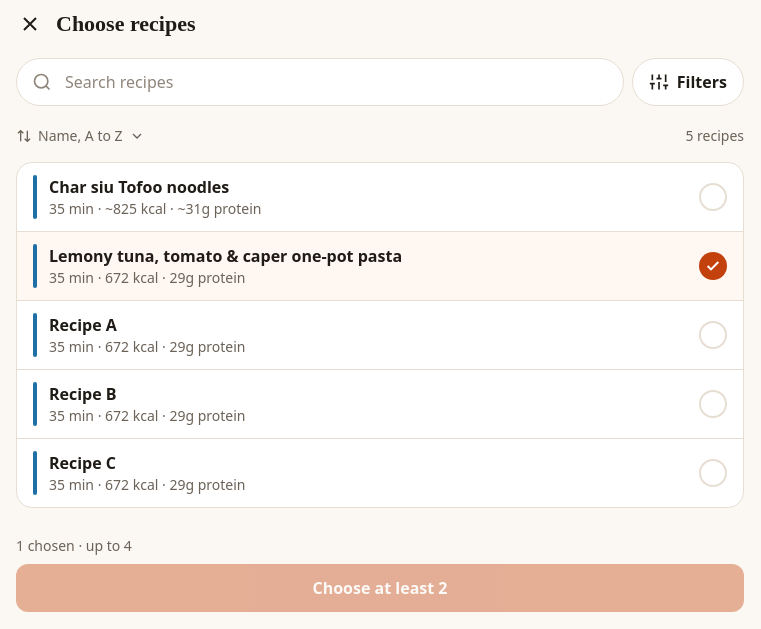
Test: choosing recipes (design B, I) › keeps the choice while searching
Type "noodles" into the search field at (320, 82), box [16, 58, 624, 106]
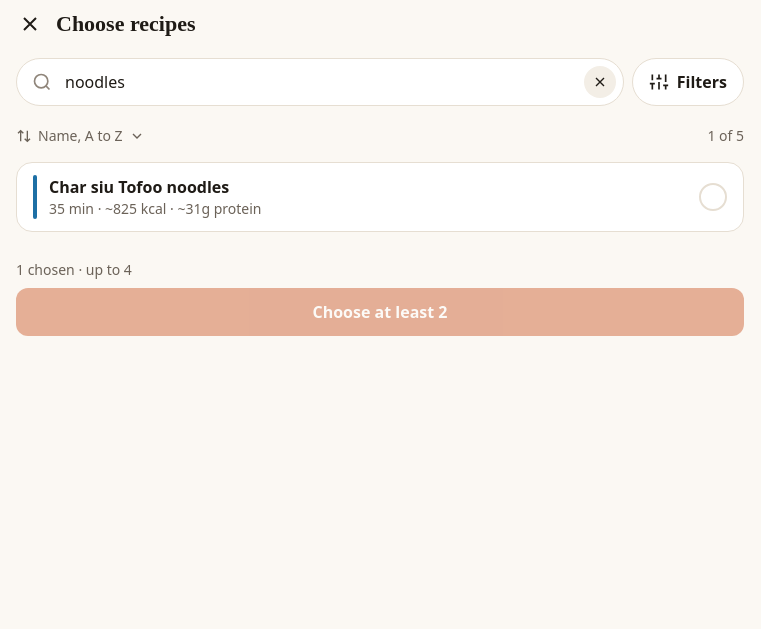
Click the button "Char siu Tofoo noodles 35 min · ~825 kcal · ~31g protein" at (139, 187), box [17, 163, 743, 231]
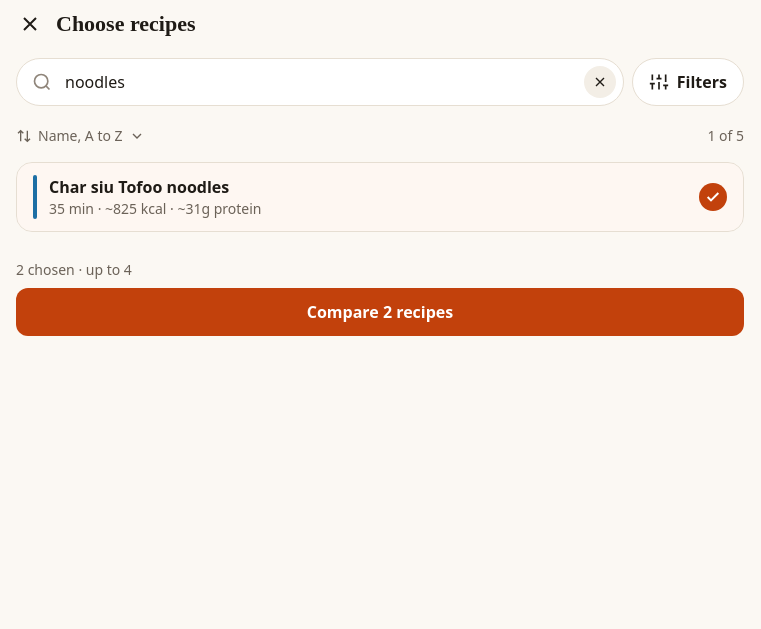
Check: the button "Compare 2 recipes" is enabled, box [16, 288, 744, 336]
